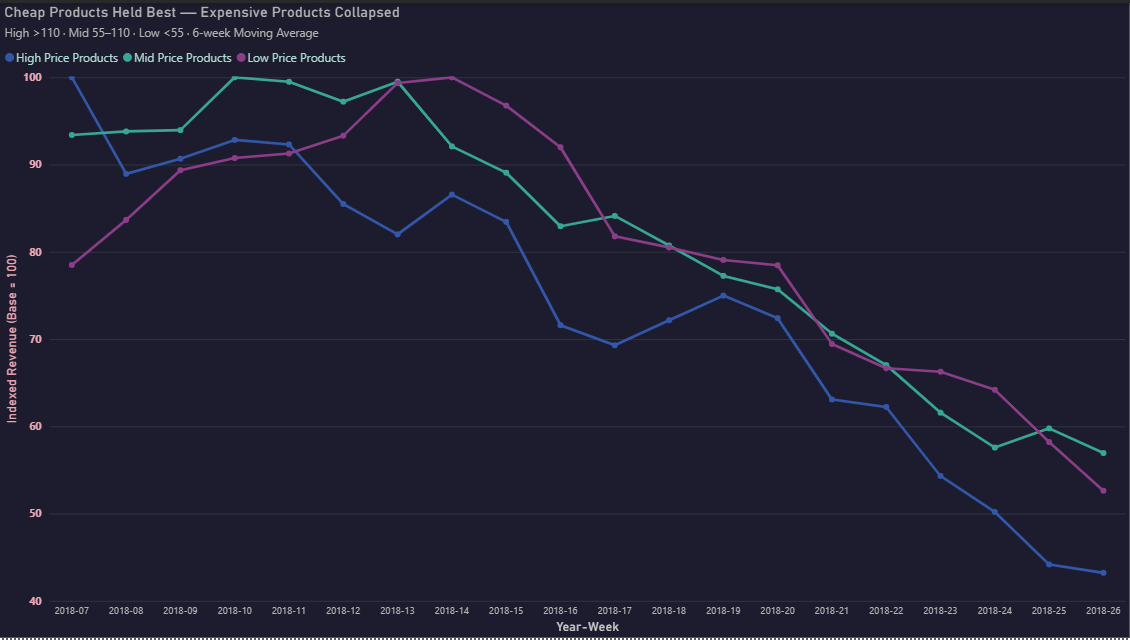

This screenshot's page, from the dashboard's own definition file:
{"tool":"powerbi","page":{"name":"Cheap Products","canvas":[1280,720],"ordinal":2},"visuals":[{"type":"textbox","box":[418,51,195.3,47.3],"z":0},{"type":"lineChart","title":"Cheap Products Held Best — Expensive Products Collapsed","fields":{"Category":["sports_leisure_weekly_2.Year Week"],"Y":["One Time Buyers Pct.High Index","One Time Buyers Pct.Mid Index","One Time Buyers Pct.Low Index"]},"box":[0,0,1280,719.5],"z":1000}]}

Visuals, with their boxes in screenshot pixels (x1, y1, x2, y2), scaled from the page's 1280x720 canvas onto the 1130x640 screenshot:
textbox: Rect(369, 45, 541, 87)
"Cheap Products Held Best — Expensive Products Collapsed" lineChart: Rect(0, 0, 1129, 639)
